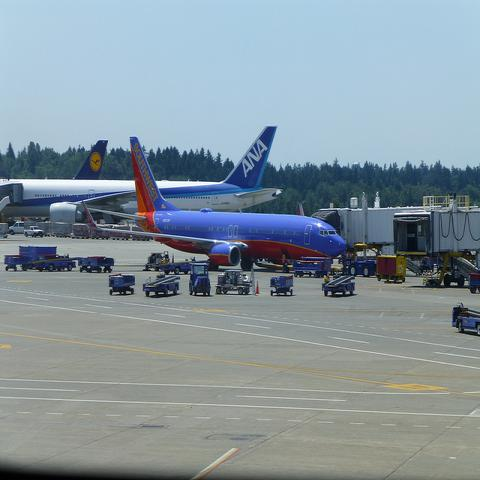truck: (444, 257, 480, 294), (215, 270, 252, 295), (145, 274, 181, 298), (293, 258, 332, 278), (453, 306, 479, 336), (342, 255, 377, 277), (188, 263, 211, 296), (35, 254, 76, 272), (324, 274, 356, 296), (109, 274, 134, 298), (269, 276, 294, 296), (24, 226, 43, 238), (421, 258, 438, 271)
